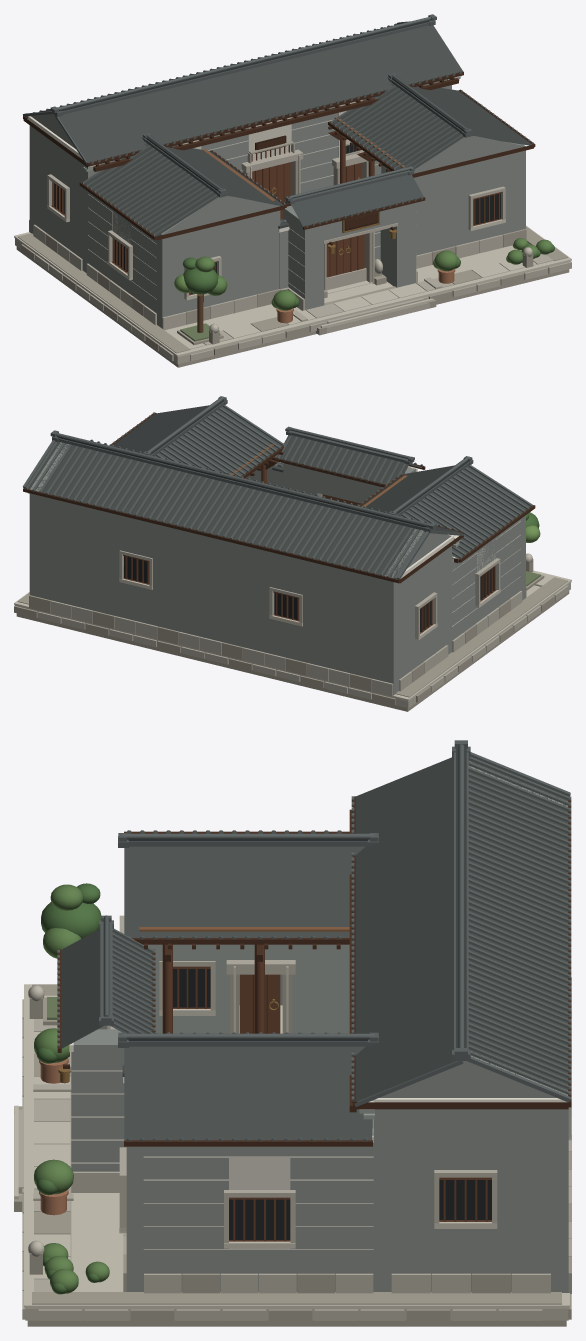
The picture shows the model from 3 angles, top to bottom: view 1: azimuth 30°, elevation 25°; view 2: azimuth 150°, elevation 25°; view 3: azimuth 270°, elevation 25°; orthographic projection. The views are drawn at different scales.
Size of the model in its own units: 0.8761 by 0.3436 by 0.6397.
